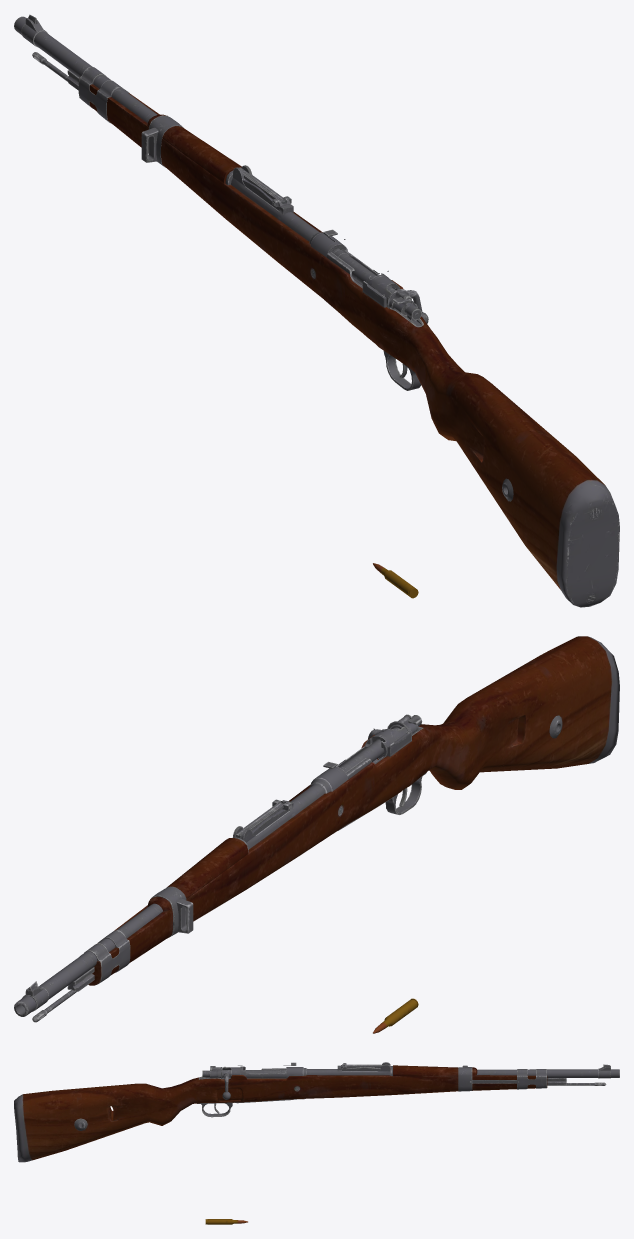
The picture shows the model from 3 angles, top to bottom: view 1: azimuth 30°, elevation 25°; view 2: azimuth 150°, elevation 25°; view 3: azimuth 270°, elevation 25°; orthographic projection. The views are drawn at different scales.
Parts seen in each view (by area): view 1: body_mesh, bolt_mesh; view 2: body_mesh, handle_mesh, bolt_mesh; view 3: body_mesh, bolt_mesh, handle_mesh.
Part boxes in pixels (<box>): body_mesh: <box>14,14,619,607</box>; bolt_mesh: <box>333,249,421,321</box>; body_mesh: <box>14,636,619,1022</box>; handle_mesh: <box>341,727,400,770</box>; bolt_mesh: <box>337,714,422,778</box>; body_mesh: <box>14,1062,619,1162</box>; bolt_mesh: <box>202,1066,286,1078</box>; handle_mesh: <box>222,1070,286,1099</box>.
Bounding box in the file's own units: 0.0674 × 0.3261 × 1.11.
1 material, 1 textured.
